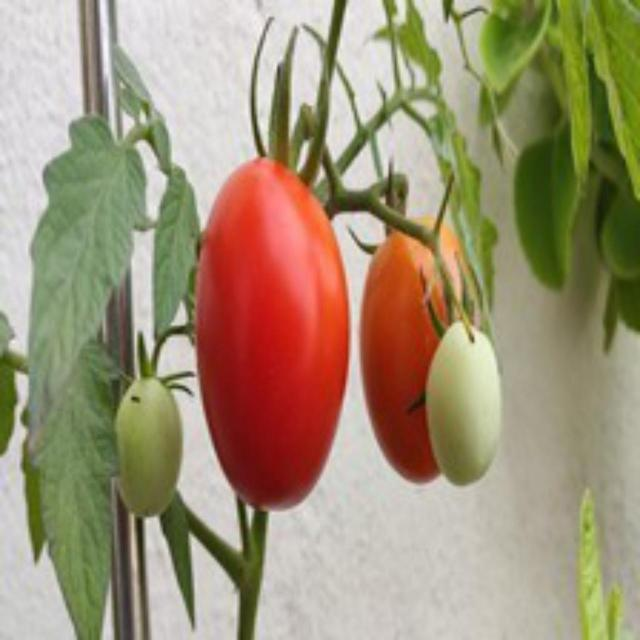tomato: (188, 150, 352, 510)
